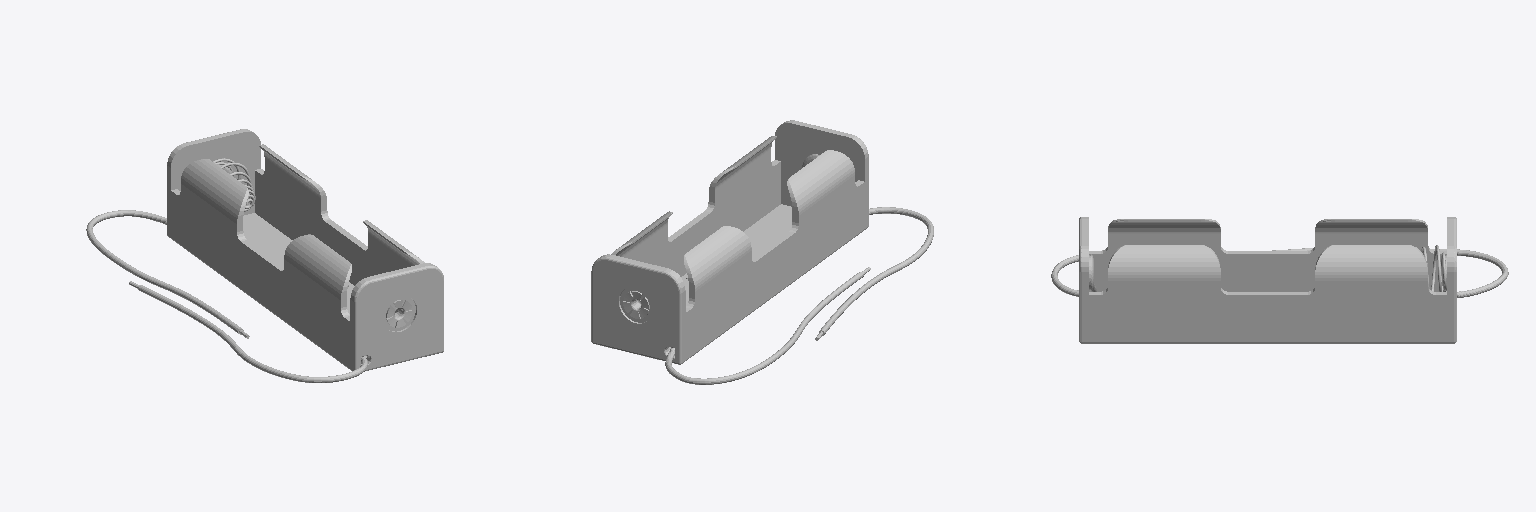
Rendered from AA Battery Holder.obj.
The picture shows the model from 3 angles: view 1: azimuth 30°, elevation 25°; view 2: azimuth 150°, elevation 25°; view 3: azimuth 270°, elevation 25°; orthographic projection.
Parts seen in each view (by area): view 1: Solid3, Solid8, Solid7, Solid1; view 2: Solid3, Solid8, Solid7, Solid2; view 3: Solid3, Solid8.
Part boxes in pixels (x1,y1,x2,y2): Solid3: (167, 129, 443, 370); Solid8: (86, 210, 249, 338); Solid7: (129, 281, 367, 382); Solid1: (386, 300, 412, 327); Solid3: (591, 120, 868, 364); Solid8: (665, 267, 870, 384); Solid7: (815, 207, 933, 340); Solid2: (623, 291, 649, 318); Solid3: (1079, 217, 1456, 343); Solid8: (1431, 249, 1508, 297).
Size of the model in its own units: 41.37 by 20 by 92.04.